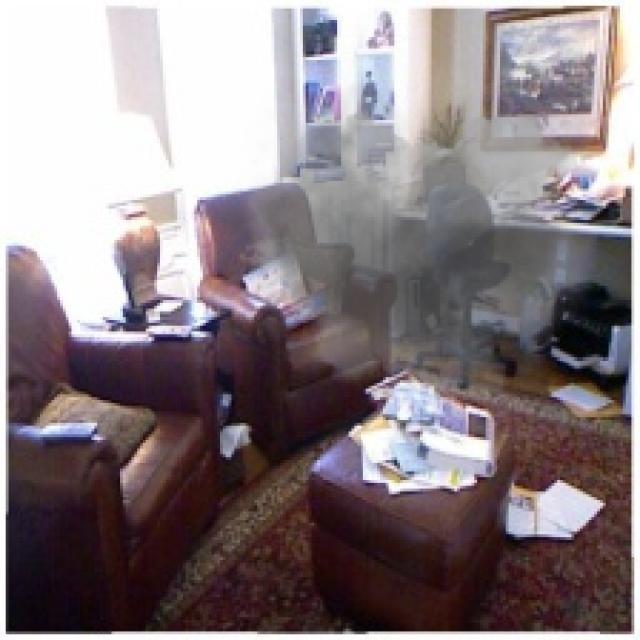smoke: (226, 34, 600, 420)
